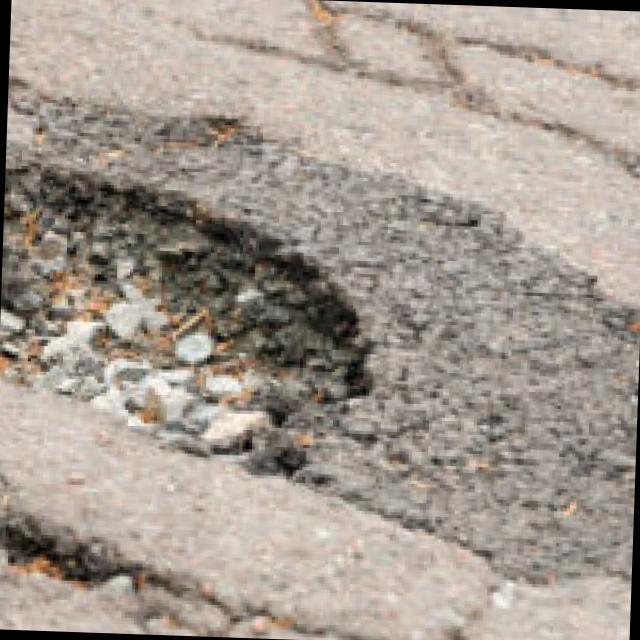Pothole: (0, 156, 384, 529)
